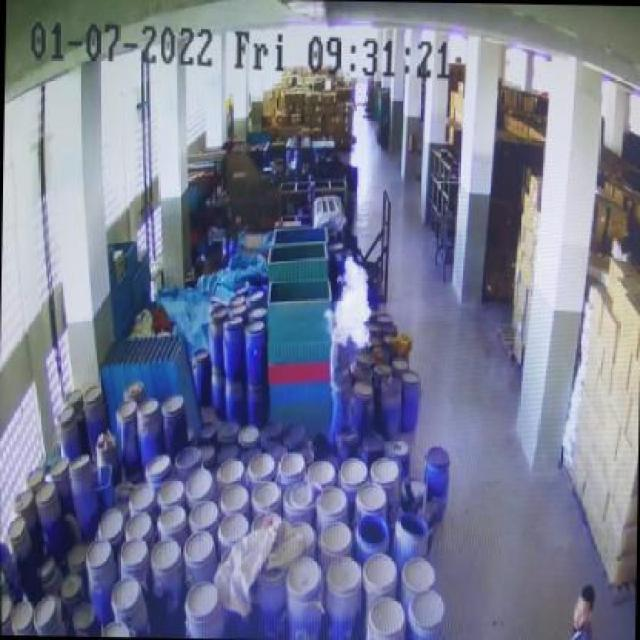fire: (320, 250, 374, 352)
